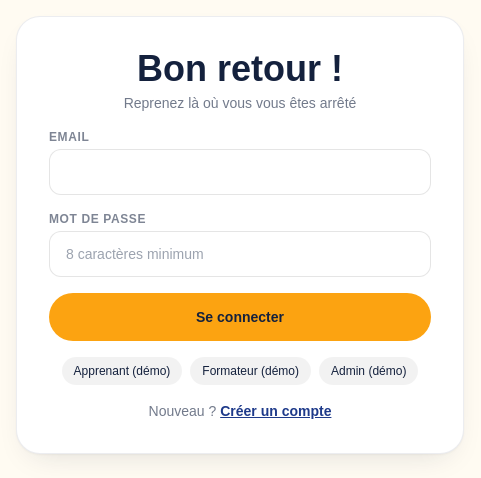
Test case: page de connexion › remplit les identifiants de démonstration
This screenshot has width=481, height=478.
Expected: the heading "Bon retour !" is shown, [137,48,343,89]
Step 1. Click the button "Apprenant (démo)" → (122, 371), box [62,357,182,385]
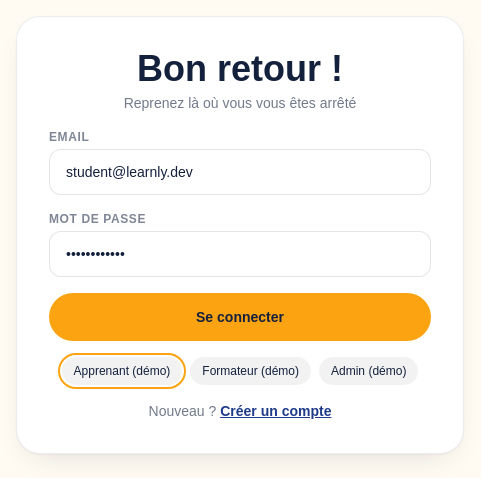
Expected: the field holds "student@learnly.dev", [49,149,431,195]
Expected: the password field with placeholder "8 caractères minimum" holds "Learnly2026!", [49,231,431,277]
